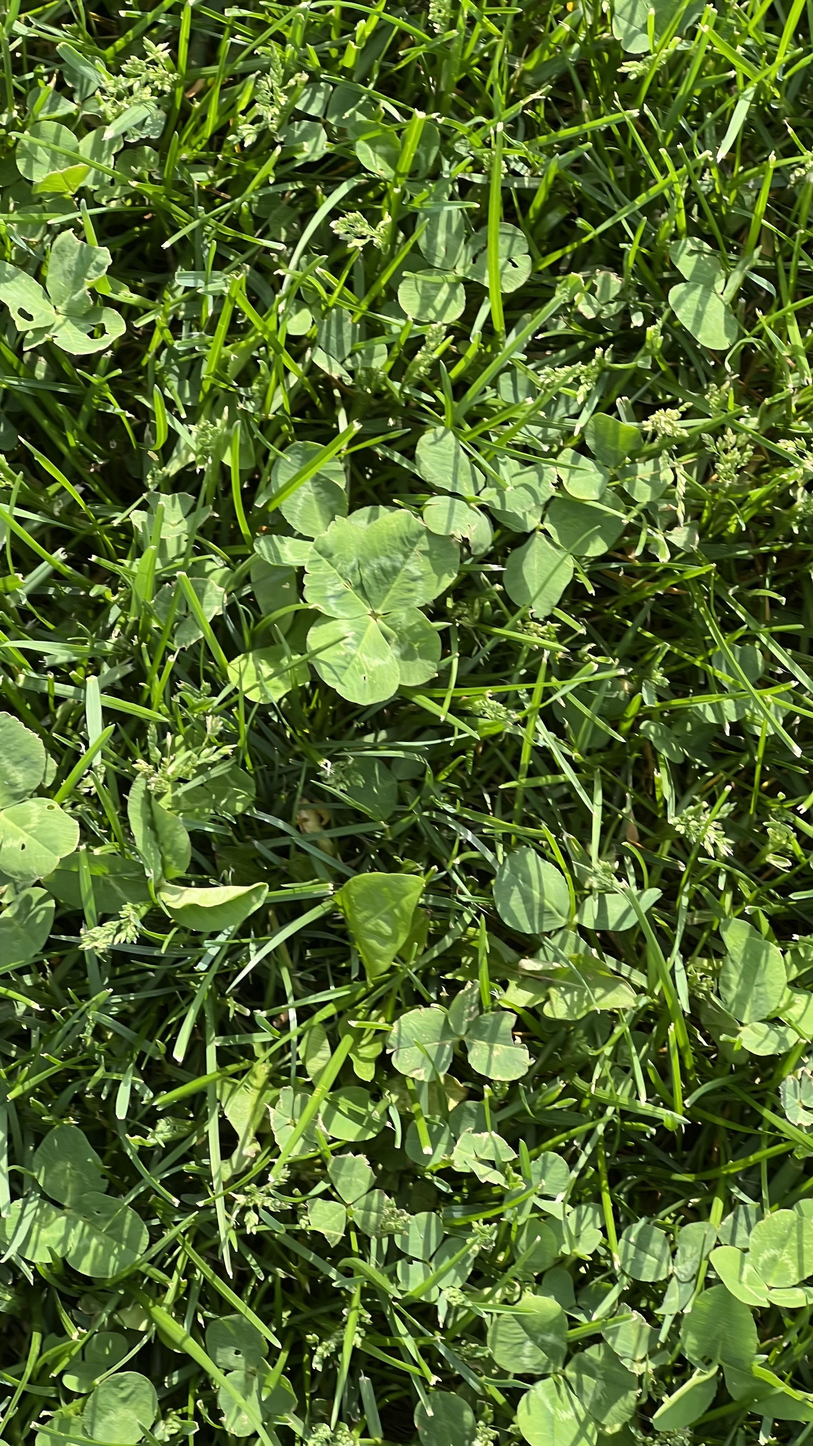4-Leaf-Clovers: (305, 511, 467, 703)
